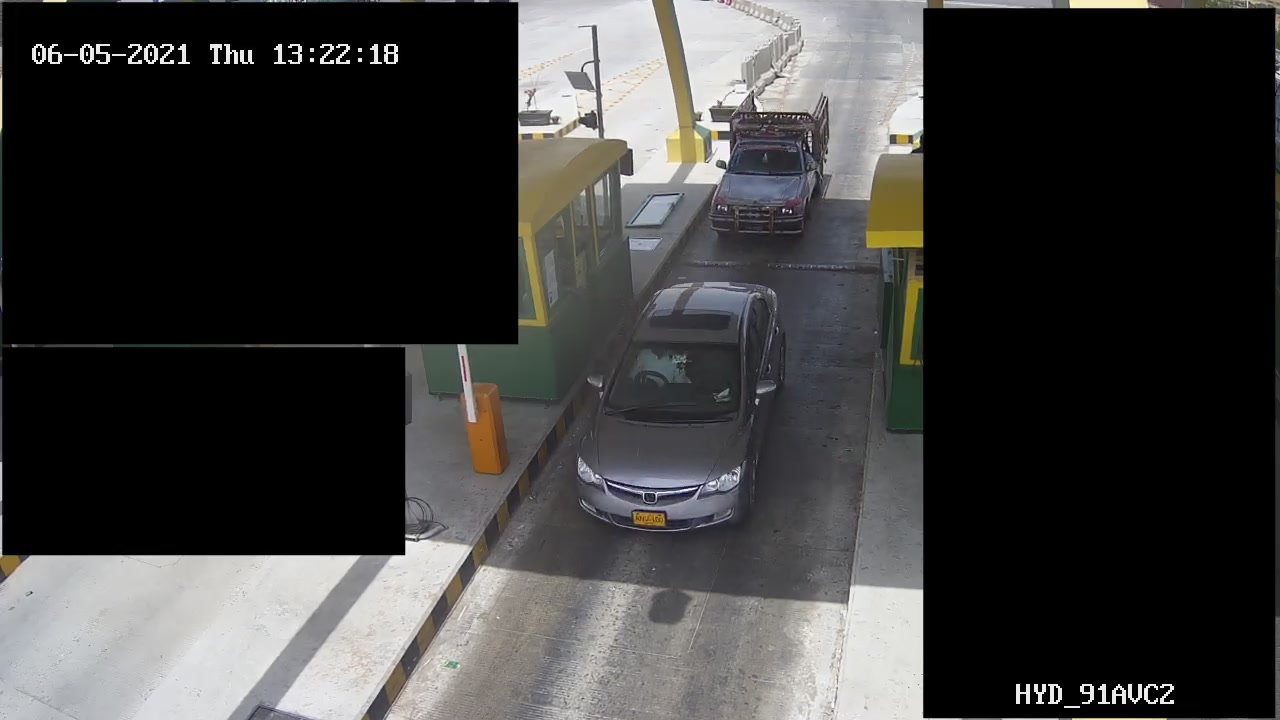F1: (563, 276, 790, 545), (703, 78, 838, 247)
